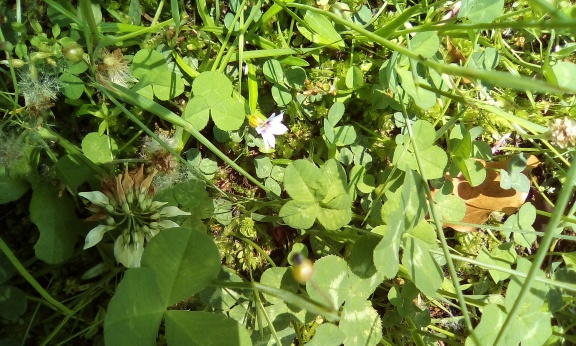4leaf: (278, 158, 353, 231)
